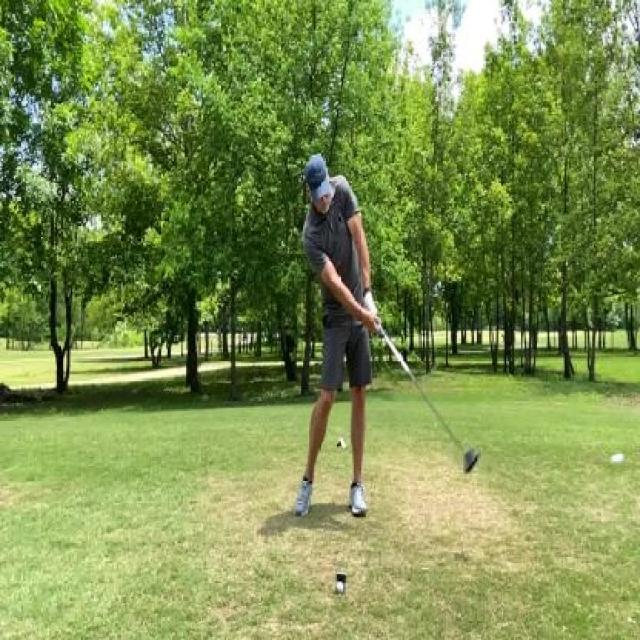club head: (460, 446, 480, 476)
